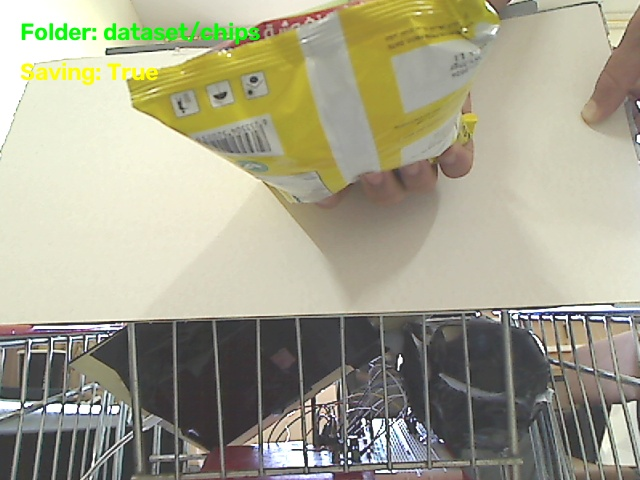chips: (128, 0, 498, 201)
